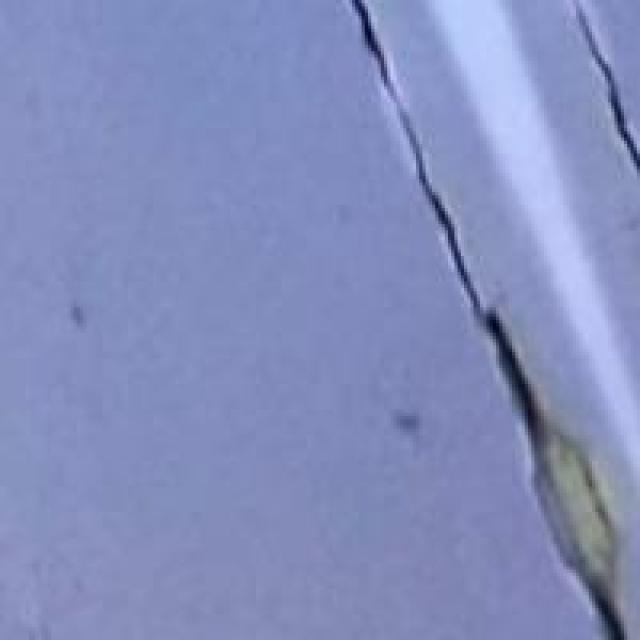crack: (320, 0, 637, 637)
